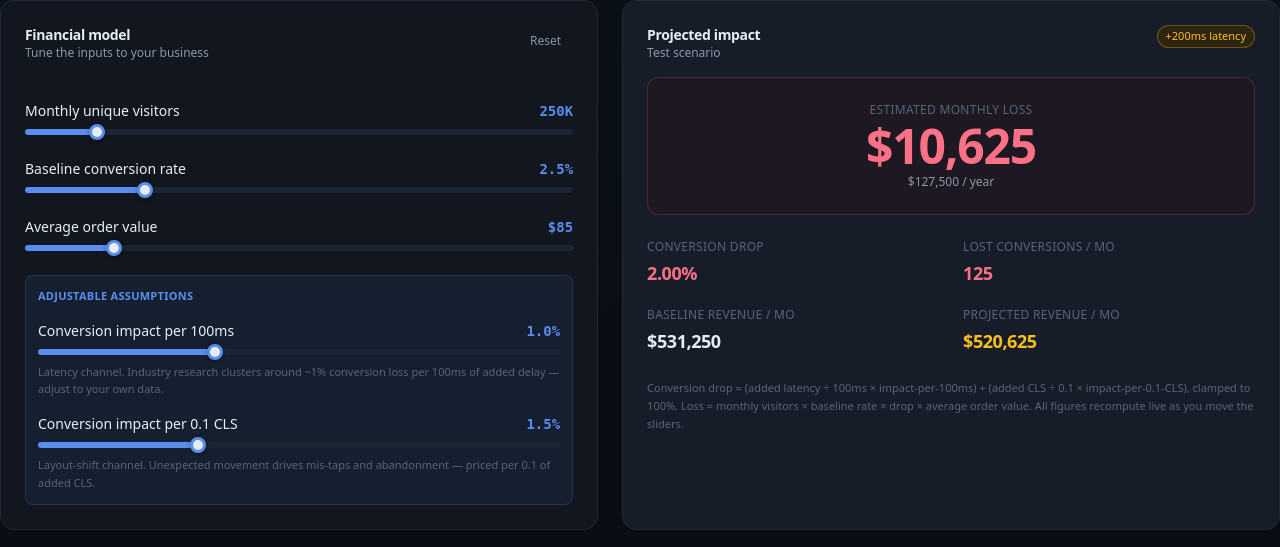
Scenario: RoiSimulator › recalculates live when the impact assumption slider moves
Expected: the text "$10,625" is shown, [866,122,1036,170]
Double the impact assumption → loss should double to $21,250.
Set the slider named "Conversion impact per 100ms" to "2" at coordinates (383, 352), box [38,348,560,354]
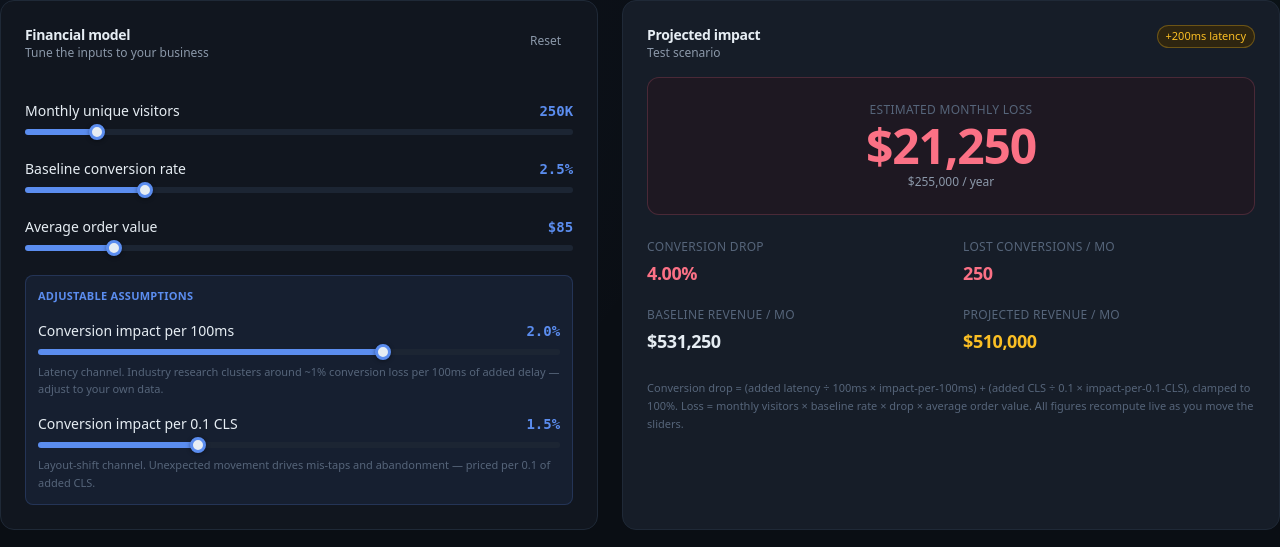
Expected: the text "$21,250" is shown, [866,122,1036,170]
Expected: the text "$10,625" is gone
